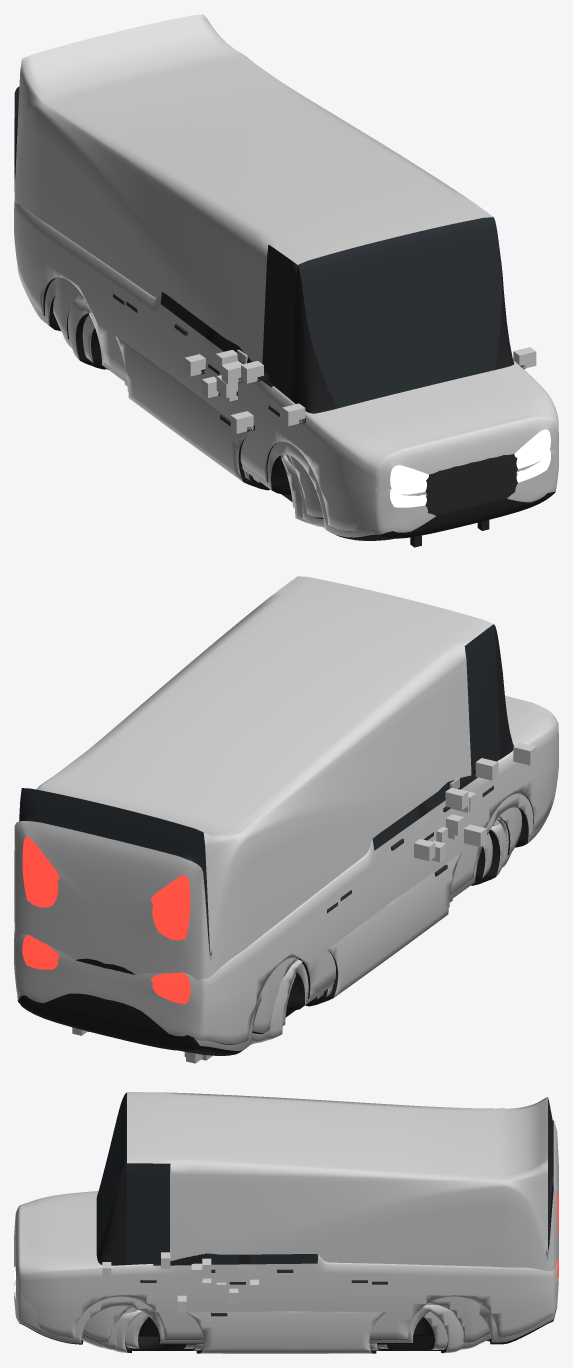
File: cars.glb
The picture shows the model from 3 angles, top to bottom: view 1: azimuth 30°, elevation 25°; view 2: azimuth 150°, elevation 25°; view 3: azimuth 270°, elevation 25°; orthographic projection. The views are drawn at different scales.
Visible parts, largest first — view 1: car_van_body, car_pickup_body, car_van_glass, car_super_body, car_policeSuv_body, car_pickup_heads, car_coupe_body, car_pickup_glass, car_van_heads, car_muscle_body; view 2: car_van_body, car_pickup_body, car_van_glass, car_super_body, car_van_tails, car_policeSuv_body, car_pickup_tails, car_muscle_body, car_pickup_glass, car_coupe_body; view 3: car_van_body, car_pickup_body, car_super_body, car_van_glass, car_policeSuv_body, car_coupe_body, car_pickup_glass, car_muscle_body, car_police_body.
Boxes of the visible parts, <box> form: car_van_body: <box>14,14,558,540</box>; car_pickup_body: <box>14,202,558,531</box>; car_van_glass: <box>14,86,501,408</box>; car_super_body: <box>68,301,320,526</box>; car_policeSuv_body: <box>53,277,412,537</box>; car_pickup_heads: <box>390,429,550,494</box>; car_coupe_body: <box>82,314,294,508</box>; car_pickup_glass: <box>160,292,237,352</box>; car_van_heads: <box>390,450,550,507</box>; car_muscle_body: <box>63,334,324,527</box>; car_van_body: <box>14,576,558,1055</box>; car_pickup_body: <box>14,695,558,1044</box>; car_van_glass: <box>19,624,500,954</box>; car_super_body: <box>88,824,504,1060</box>; car_van_tails: <box>22,837,190,940</box>; car_policeSuv_body: <box>252,777,521,1034</box>; car_pickup_tails: <box>22,935,190,1004</box>; car_muscle_body: <box>72,819,511,1063</box>; car_pickup_glass: <box>372,783,447,850</box>; car_coupe_body: <box>283,833,492,1025</box>; car_van_body: <box>14,1092,558,1344</box>; car_pickup_body: <box>14,1191,558,1339</box>; car_super_body: <box>113,1295,463,1353</box>; car_van_glass: <box>96,1092,553,1264</box>; car_policeSuv_body: <box>82,1264,490,1342</box>; car_coupe_body: <box>125,1288,489,1349</box>; car_pickup_glass: <box>206,1253,317,1264</box>; car_muscle_body: <box>85,1279,516,1350</box>; car_police_body: <box>81,1278,491,1348</box>.
Size of the model in its own units: 2.38 by 2.43 by 6.02.
